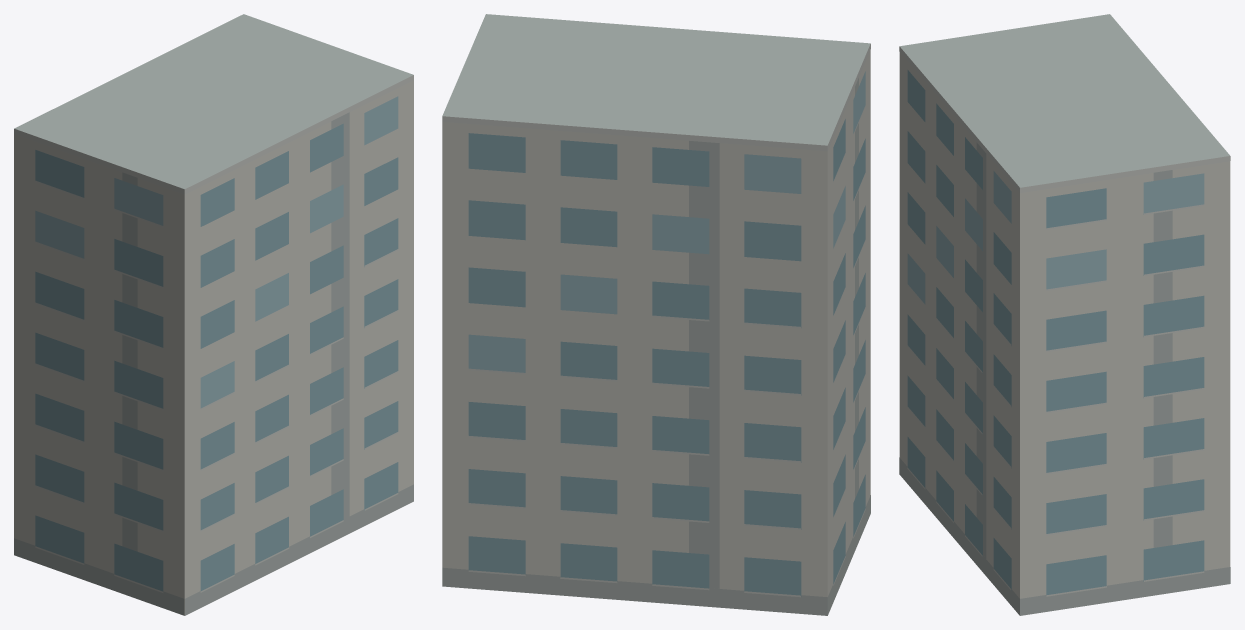
The model's file is survey-upis-32799275.glb.
The picture shows the model from 3 angles, left to right: view 1: azimuth 30°, elevation 25°; view 2: azimuth 150°, elevation 25°; view 3: azimuth 270°, elevation 25°; orthographic projection. The views are drawn at different scales.
Parts seen in each view (by area): view 1: survey-upis-32799275.tmp; view 2: survey-upis-32799275.tmp; view 3: survey-upis-32799275.tmp.
Boxes of the visible parts, x1,y1,x2,y2 form: survey-upis-32799275.tmp: (14, 14, 413, 615); survey-upis-32799275.tmp: (442, 14, 870, 615); survey-upis-32799275.tmp: (899, 14, 1230, 615).
Bounding box in the file's own units: 17.33 × 19.9 × 13.95.
